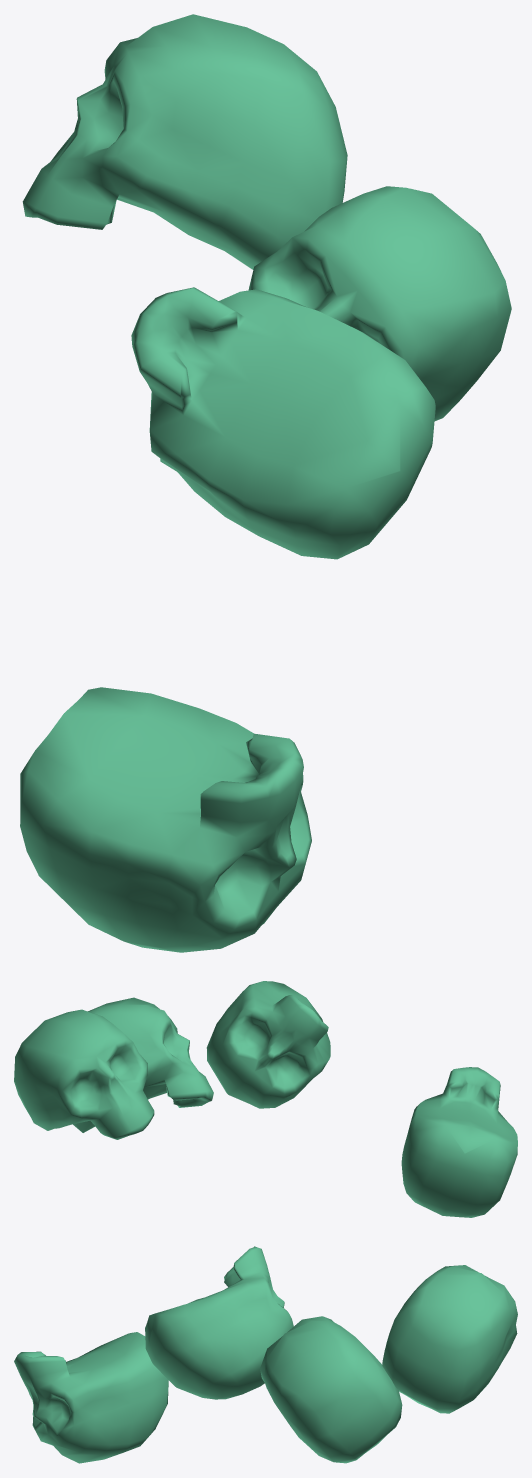
The model's file is Jar_Bones_02A_Lod2.fbx.
3 views of the same model, one above another, from view 1: azimuth 30°, elevation 25°; view 2: azimuth 150°, elevation 25°; view 3: azimuth 270°, elevation 25° (orthographic). The views are drawn at different scales.
Parts seen in each view (by area): view 1: Jar_Bones_02A_Lod2; view 2: Jar_Bones_02A_Lod2; view 3: Jar_Bones_02A_Lod2.
Boxes of the visible parts, box(x1,y1,x2,y2) form: Jar_Bones_02A_Lod2: box(20, 14, 511, 952); Jar_Bones_02A_Lod2: box(14, 981, 517, 1217); Jar_Bones_02A_Lod2: box(14, 1246, 517, 1463).
Size of the model in its own units: 47.71 by 36.78 by 61.33.
